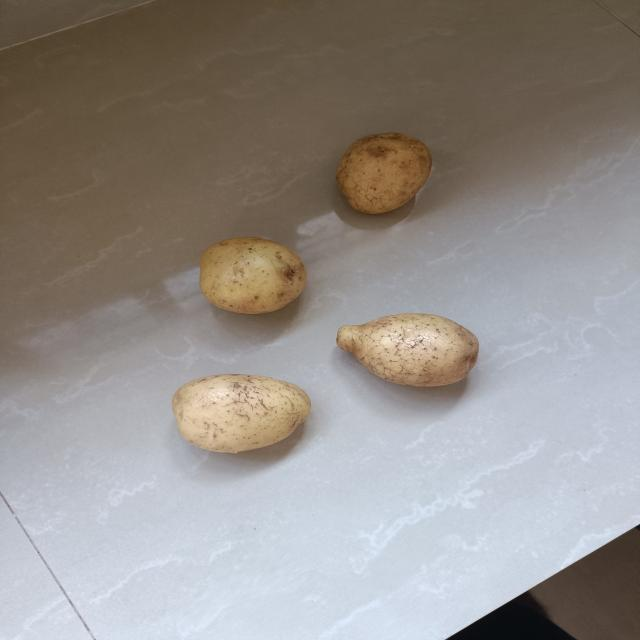potato: (167, 372, 315, 457), (334, 310, 489, 390), (193, 235, 313, 318), (331, 127, 434, 217)
